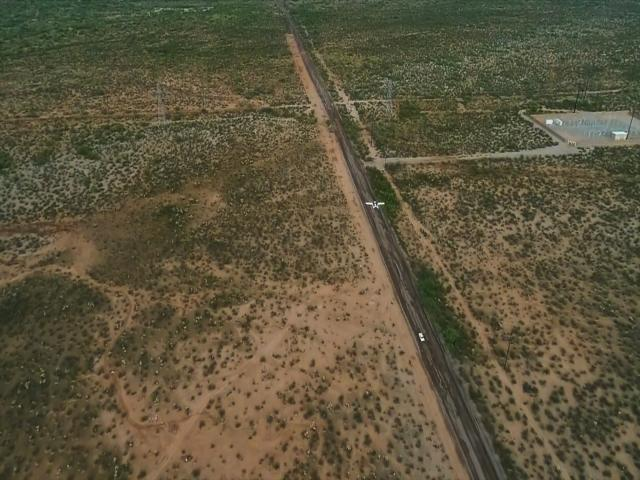plane: (366, 199, 385, 212)
